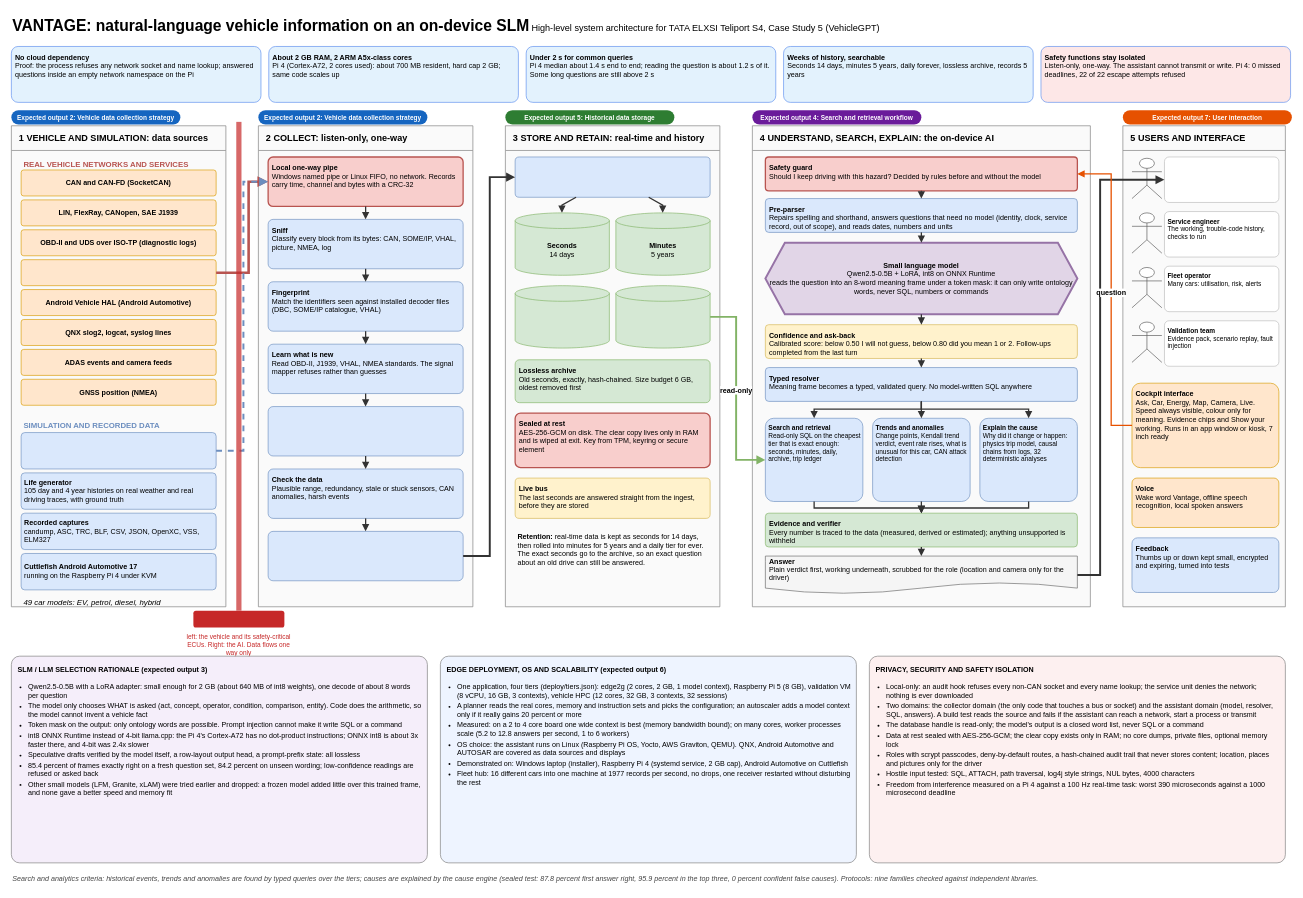
This 1303x898 diagram has some shape labels left out. Each missing label, with the centre of its shape:
"Daily forever" belongs at point 561,316.
"Decode Canonical signals in standard units, events, logs, thumbnails" belongs at point 365,431.
"Detect vehicle type EV, petrol, diesel or hybrid, read from the data" belongs at point 365,556.
"Driver Ask in plain words, by voice or text. Plain answer" belongs at point 1221,179.
"Records events, DTCs, trips" belongs at point 662,316.
"SAFETY BOUNDARY" belongs at point 238,618.
"Single-writer runtime One process writes. Everyone else has a read-only handle" belongs at point 612,176.
"SOME/IP services, DoIP (automotive Ethernet)" belongs at point 118,272.
"Virtual car a drivable route, 13 injectable faults, procedural dash camera" belongs at point 118,450.
